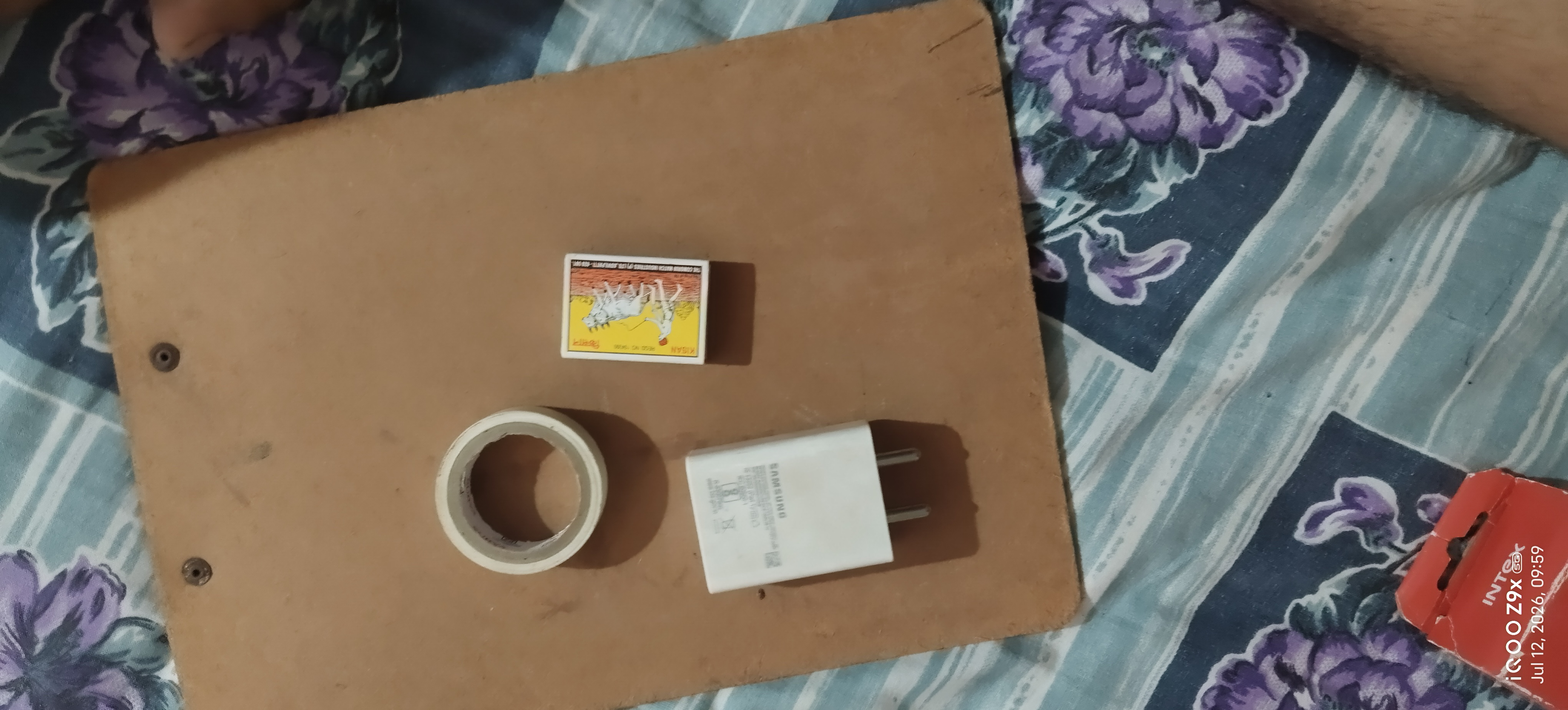charger: (666, 412, 957, 606)
matchbox: (553, 245, 737, 374)
tape_roll: (424, 397, 624, 583)
